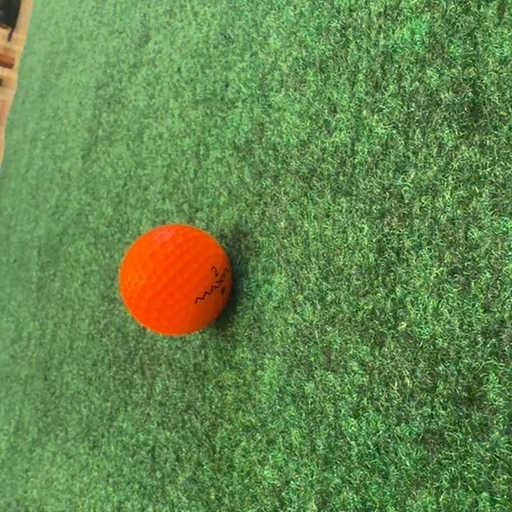Ball: (120, 225, 232, 336)
